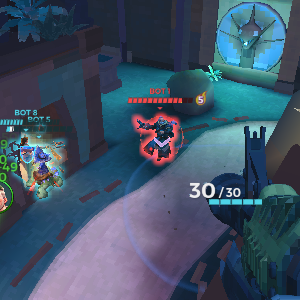model: (144, 115, 177, 165)
